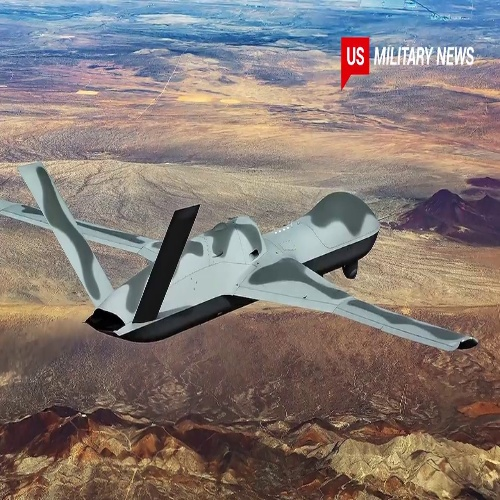uav56: (1, 161, 480, 356)
